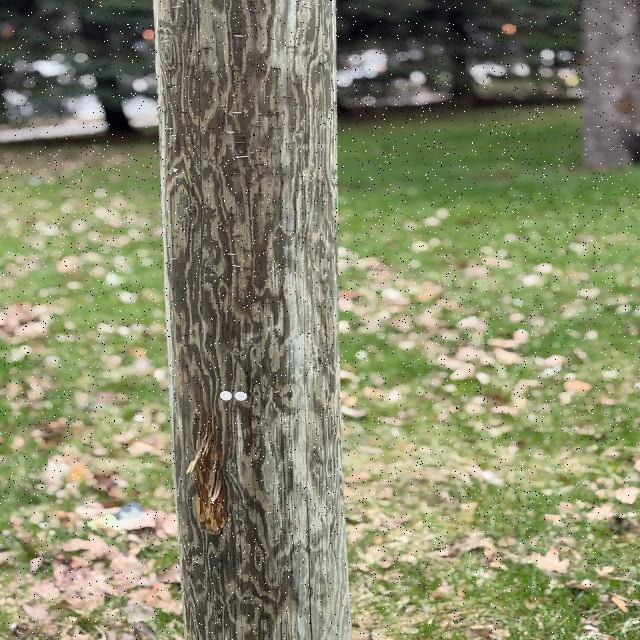Electrical Pole: (150, 1, 349, 639)
